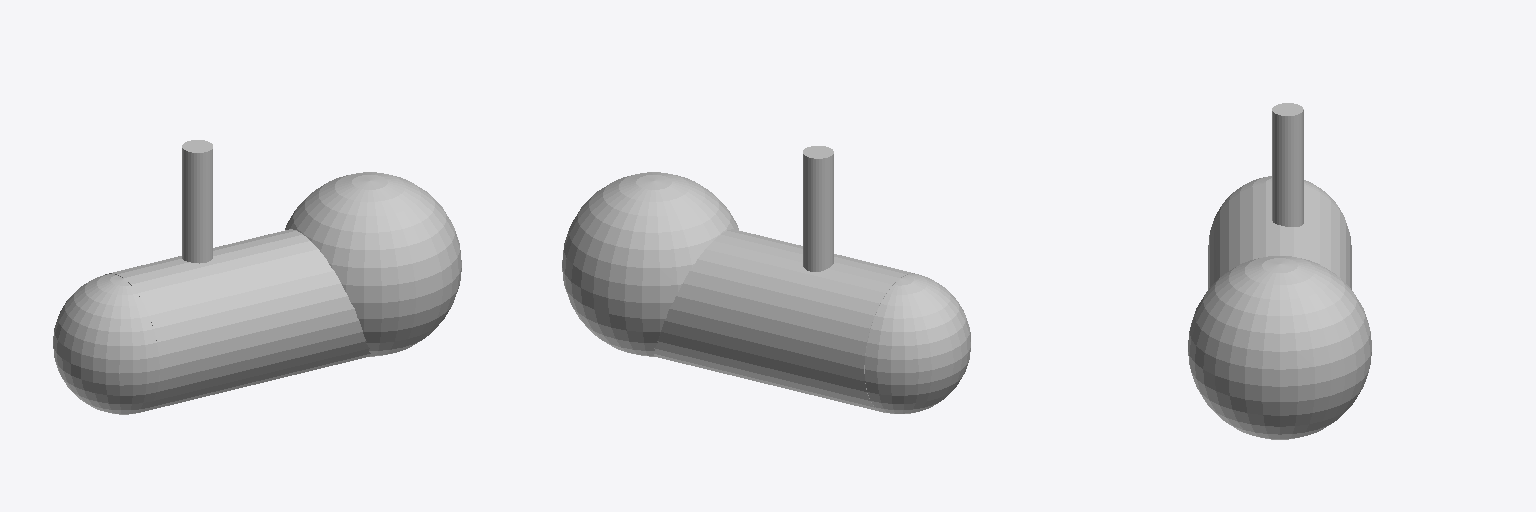
The model's file is leg-right.obj.
The picture shows the model from 3 angles: view 1: azimuth 30°, elevation 25°; view 2: azimuth 150°, elevation 25°; view 3: azimuth 270°, elevation 25°; orthographic projection.
Parts seen in each view (by area): view 1: Leg_Right_Cylinder.003; view 2: Leg_Right_Cylinder.003; view 3: Leg_Right_Cylinder.003.
Part boxes in pixels (left/top/right/bottom): Leg_Right_Cylinder.003: left=53, top=140, right=461, bottom=414; Leg_Right_Cylinder.003: left=562, top=146, right=970, bottom=413; Leg_Right_Cylinder.003: left=1188, top=103, right=1371, bottom=439.
Size of the model in its own units: 0.3481 by 0.2058 by 0.1436.